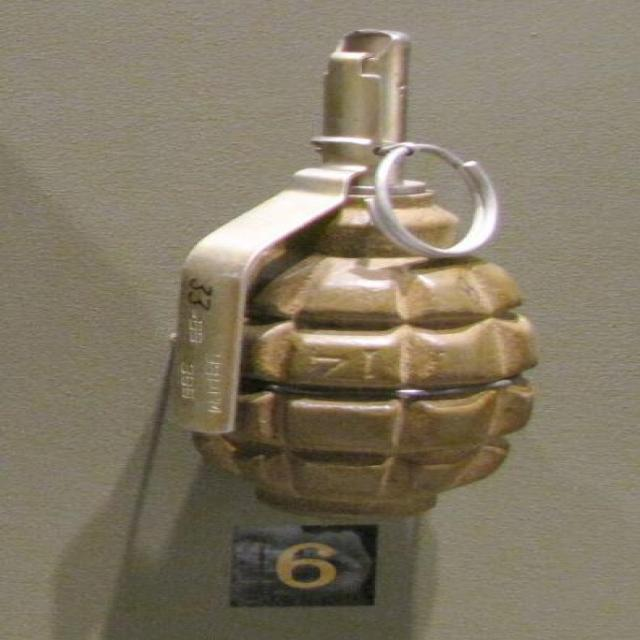grenade: (175, 30, 541, 532)
